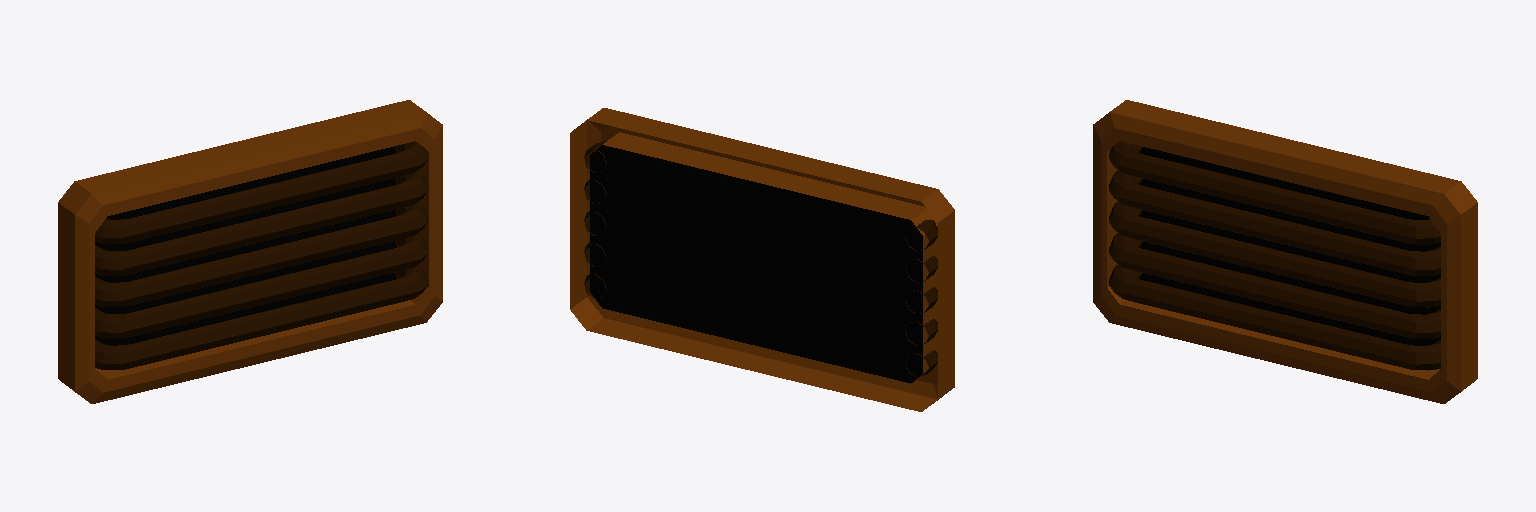
File: Details_Vent_5.obj
3 renders of one model, left to right at view 1: azimuth 30°, elevation 25°; view 2: azimuth 150°, elevation 25°; view 3: azimuth 330°, elevation 25°, orthographic.
Parts seen in each view (by area): view 1: Details_Vent_5_Cube.051; view 2: Details_Vent_5_Cube.051; view 3: Details_Vent_5_Cube.051.
Boxes of the visible parts, box(x1,y1,x2,y2) form: Details_Vent_5_Cube.051: box(58, 100, 442, 403); Details_Vent_5_Cube.051: box(570, 108, 954, 411); Details_Vent_5_Cube.051: box(1093, 100, 1477, 403).
Bounding box in the file's own units: 0.6864 × 0.3753 × 0.0905.